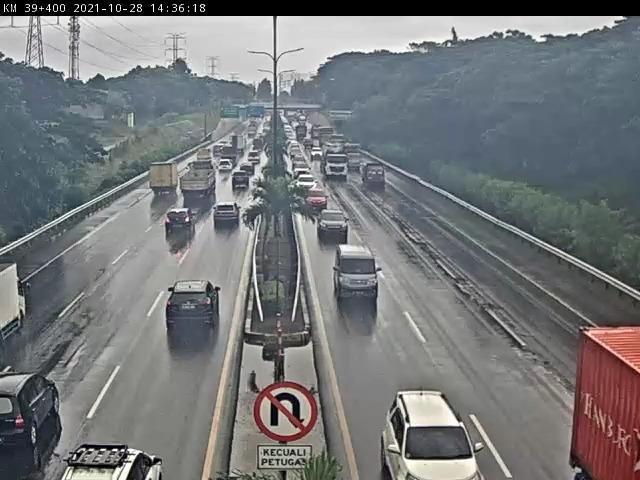car: (382, 389, 484, 480), (331, 242, 381, 301), (167, 279, 224, 329), (162, 207, 197, 239), (317, 208, 350, 238), (212, 201, 243, 231), (305, 185, 330, 213), (297, 172, 318, 192), (230, 174, 250, 193), (239, 162, 257, 177), (217, 159, 233, 175)
truck: (179, 166, 217, 202), (148, 160, 182, 198), (358, 161, 388, 189), (321, 151, 350, 179)
